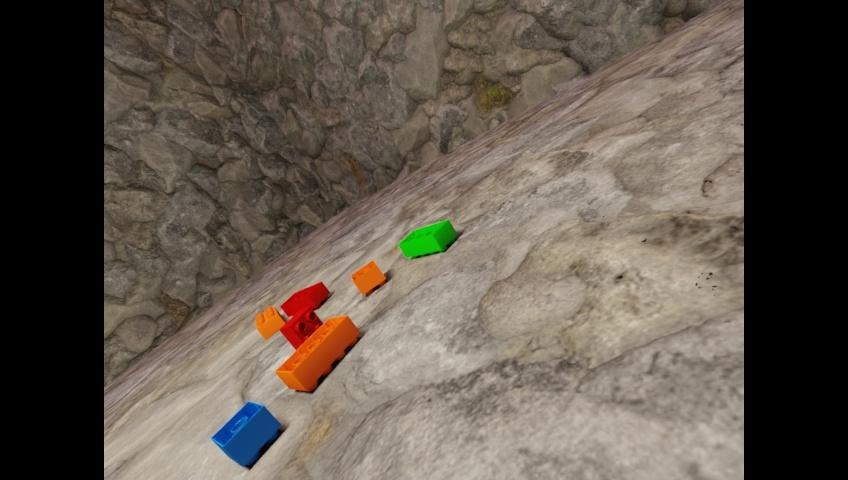2x2_blue: (210, 400, 280, 466)
2x2_orange: (350, 259, 385, 294)
2x2_red: (279, 305, 323, 350)
4x2_green: (398, 219, 456, 258)
4x2_orange: (275, 314, 359, 391), (255, 305, 285, 339)
4x2_red: (280, 280, 329, 316)
